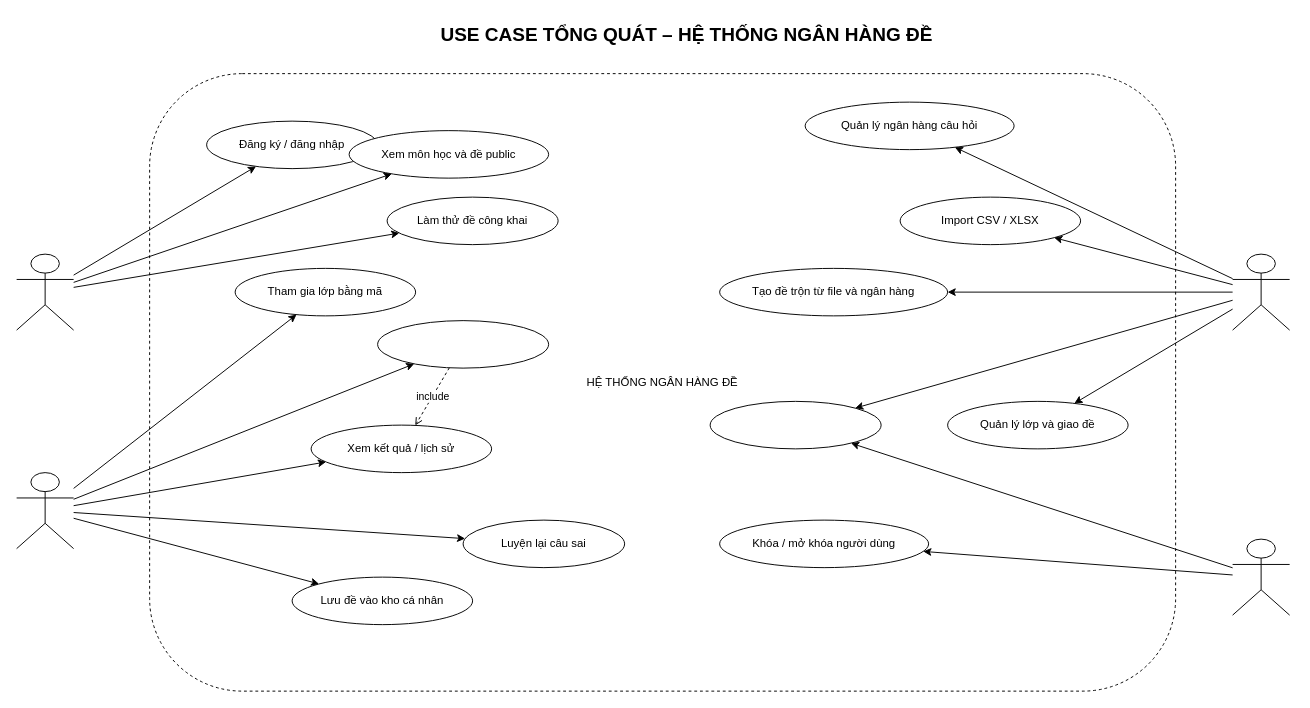
Some shapes in this 1310 by 708 pixel diagram are drawn without their labels. Each missing label, with the centre of its shape:
"Giảng viên" goes at (x=1261, y=291).
"Khách" goes at (x=45, y=291).
"Làm bài và nộp bài" goes at (x=463, y=344).
"Quản trị viên" goes at (x=1261, y=576).
"Sinh viên" goes at (x=45, y=510).
"Thống kê / báo cáo" goes at (x=795, y=424).
